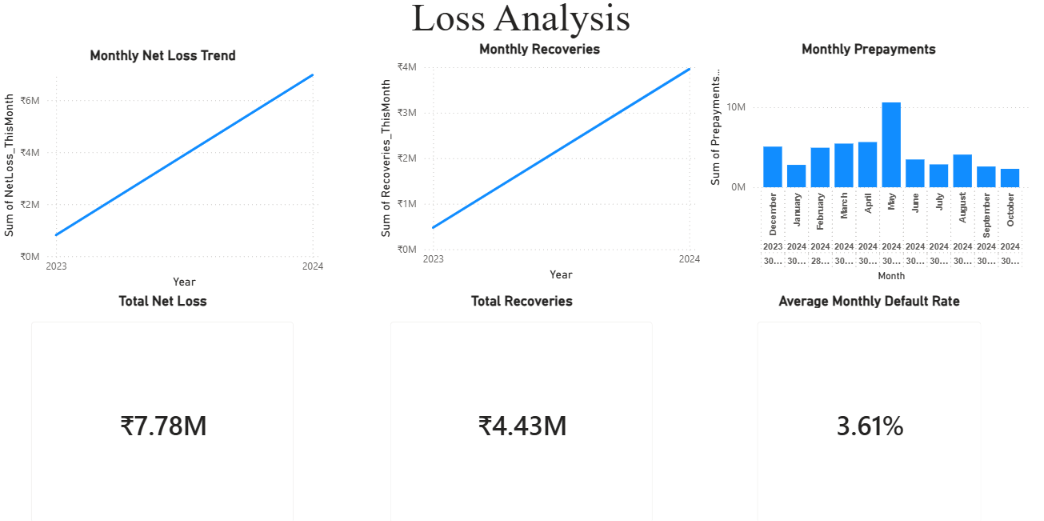

What the dashboard file says about the page in this screenshot:
{"tool":"powerbi","page":{"name":"Loss Analysis","canvas":[1280,720],"ordinal":4},"visuals":[{"type":"textbox","box":[500.1,0,280,68.5],"z":0},{"type":"lineChart","title":"Monthly Net Loss Trend","fields":{"Category":["dynamic_loss_monthly.ReportingDate.Variation.Date Hierarchy.Year","dynamic_loss_monthly.ReportingDate.Variation.Date Hierarchy.Quarter","dynamic_loss_monthly.ReportingDate.Variation.Date Hierarchy.Month","dynamic_loss_monthly.ReportingDate.Variation.Date Hierarchy.Day"],"Y":["Sum(dynamic_loss_monthly.NetLoss_ThisMonth)"]},"box":[0,68.5,402.3,299.6],"z":1000},{"type":"lineChart","title":"Monthly Recoveries","fields":{"Category":["dynamic_loss_monthly.ReportingDate.Variation.Date Hierarchy.Year","dynamic_loss_monthly.ReportingDate.Variation.Date Hierarchy.Quarter","dynamic_loss_monthly.ReportingDate.Variation.Date Hierarchy.Month","dynamic_loss_monthly.ReportingDate.Variation.Date Hierarchy.Day"],"Y":["Sum(dynamic_loss_monthly.Recoveries_ThisMonth)"]},"box":[461,59.9,402,299.6],"z":2000},{"type":"clusteredColumnChart","title":"Monthly Prepayments","fields":{"Y":["Sum(dynamic_loss_monthly.Prepayments_ThisMonth)"],"Category":["dynamic_loss_monthly.ReportingDate","dynamic_loss_monthly.ReportingDate.Variation.Date Hierarchy.Year","dynamic_loss_monthly.ReportingDate.Variation.Date Hierarchy.Month"]},"box":[863.3,59.9,402.3,299.6],"z":3000},{"type":"cardVisual","title":"Total Net Loss","fields":{"Data":["Sum(dynamic_loss_monthly.NetLoss_ThisMonth)"]},"box":[23.2,368.1,355.8,299.6],"z":4000},{"type":"cardVisual","title":"Total Recoveries","fields":{"Data":["Sum(dynamic_loss_monthly.Recoveries_ThisMonth)"]},"box":[462.2,368.1,355.8,299.6],"z":5000},{"type":"cardVisual","title":"Average Monthly Default Rate","fields":{"Data":["Sum(dynamic_loss_monthly.MonthlyDefaultRate)"]},"box":[911,368.1,308.2,299.6],"z":6000}]}

Visuals, with their boxes on the page's 1280x720 design canvas (x1, y1, x2, y2). These are canvas units, not pixel positions in the 1044x521 screenshot, which may show the page scaled, cropped or inside an application window:
textbox: x1=500, y1=0, x2=780, y2=68
"Monthly Net Loss Trend" lineChart: x1=0, y1=68, x2=402, y2=368
"Monthly Recoveries" lineChart: x1=461, y1=60, x2=863, y2=360
"Monthly Prepayments" clusteredColumnChart: x1=863, y1=60, x2=1266, y2=360
"Total Net Loss" cardVisual: x1=23, y1=368, x2=379, y2=668
"Total Recoveries" cardVisual: x1=462, y1=368, x2=818, y2=668
"Average Monthly Default Rate" cardVisual: x1=911, y1=368, x2=1219, y2=668
